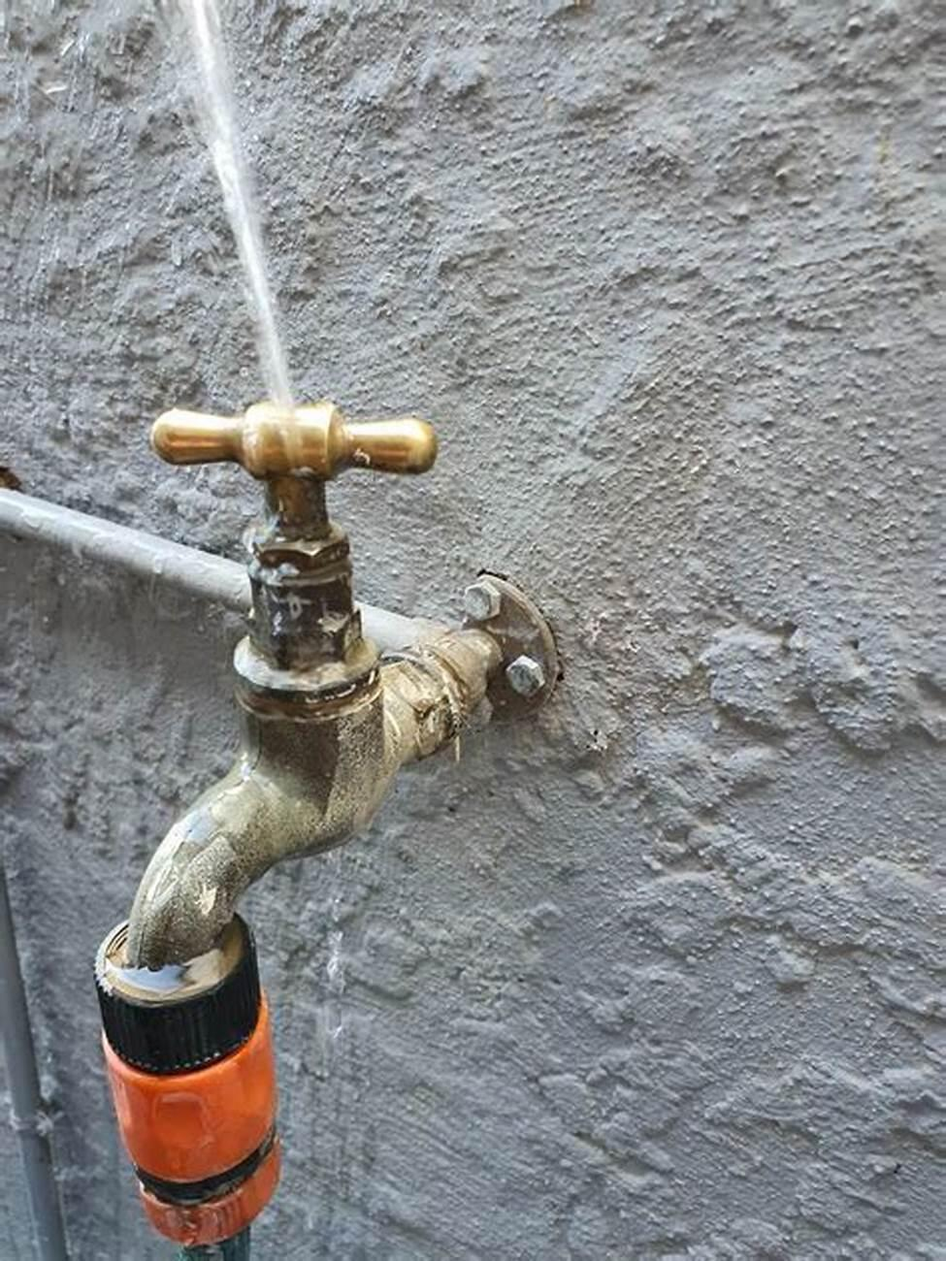pipe burst: (172, 0, 327, 427)
